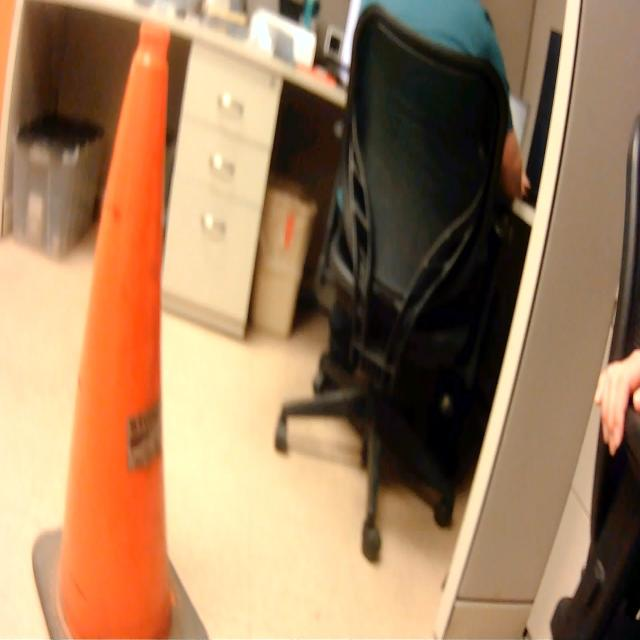traffic cone: (26, 7, 215, 640)
